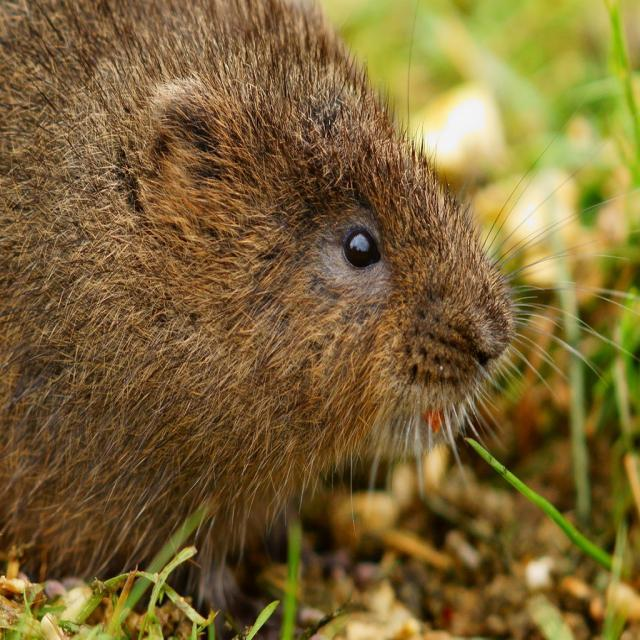rat: (0, 0, 519, 580)
